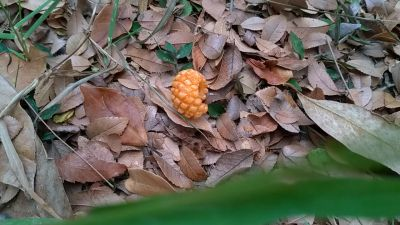eggs: (169, 67, 215, 120)
